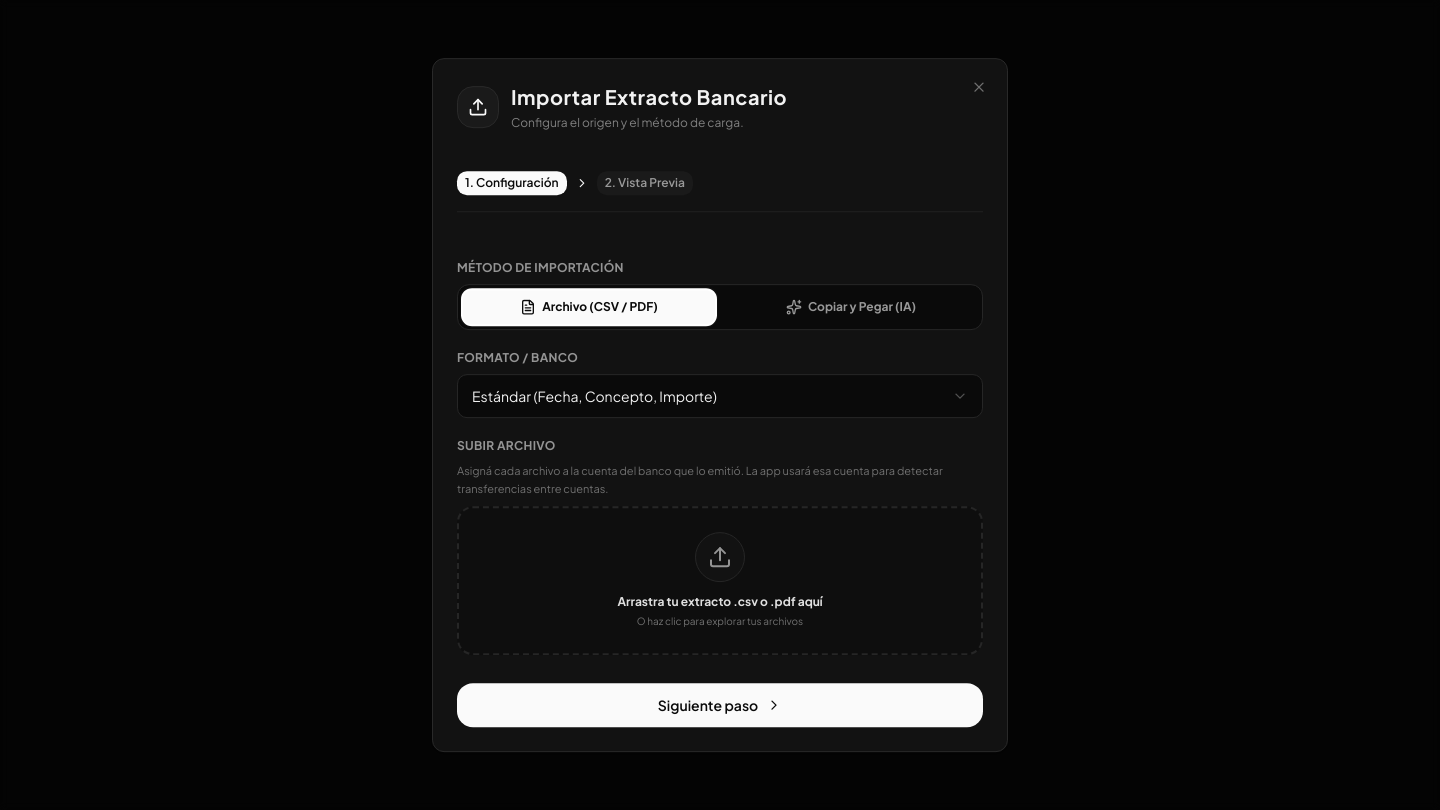
Test case: ImportStatementModal UI › debe alternar métodos de importación
The width and height of the screenshot is (1440, 810).
Step 1. Click the button "Copiar y Pegar (IA)" → (851,307), box [724,289,978,325]
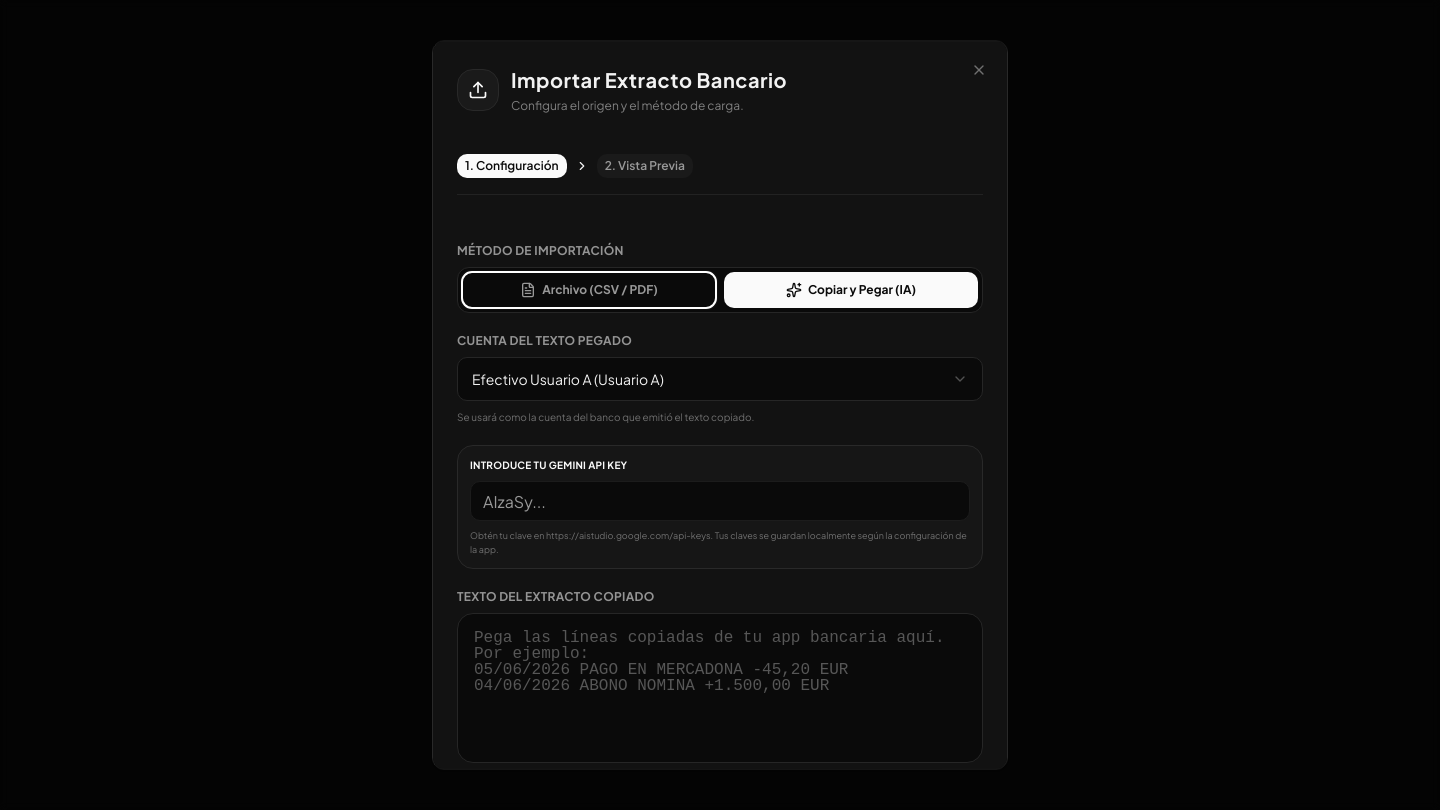
Check: the text "Cuenta del texto pegado" is shown, box [457,332,632,348]
Check: the text "Se usará como la cuenta del banco que emitió el texto copiado." is shown, box [457,410,754,422]
Check: the text box with placeholder "Pega las líneas copiadas de tu app bancaria" is shown, box [457,613,983,763]
Step 2. Click the button "Archivo (CSV / PDF)" → (589,290), box [462,272,716,308]
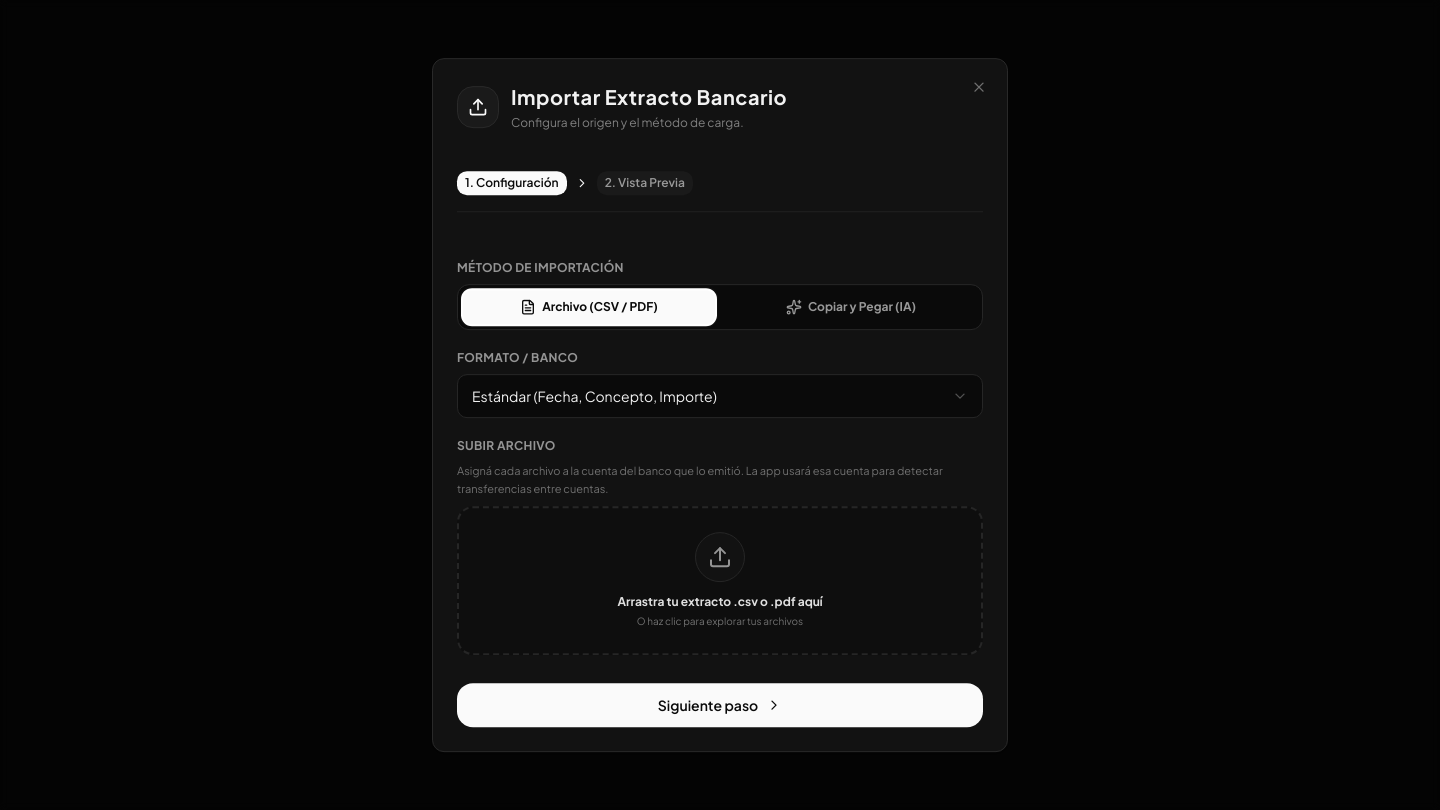
Check: the text "Formato / Banco" is shown, box [457,350,578,365]
Check: the text "Cuenta del texto pegado" is gone
